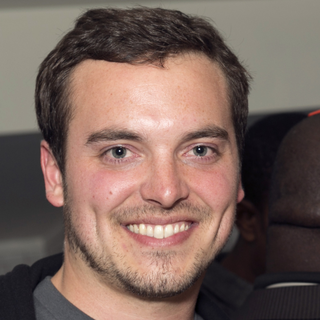eye: (93, 142, 144, 165), (176, 142, 222, 162)
